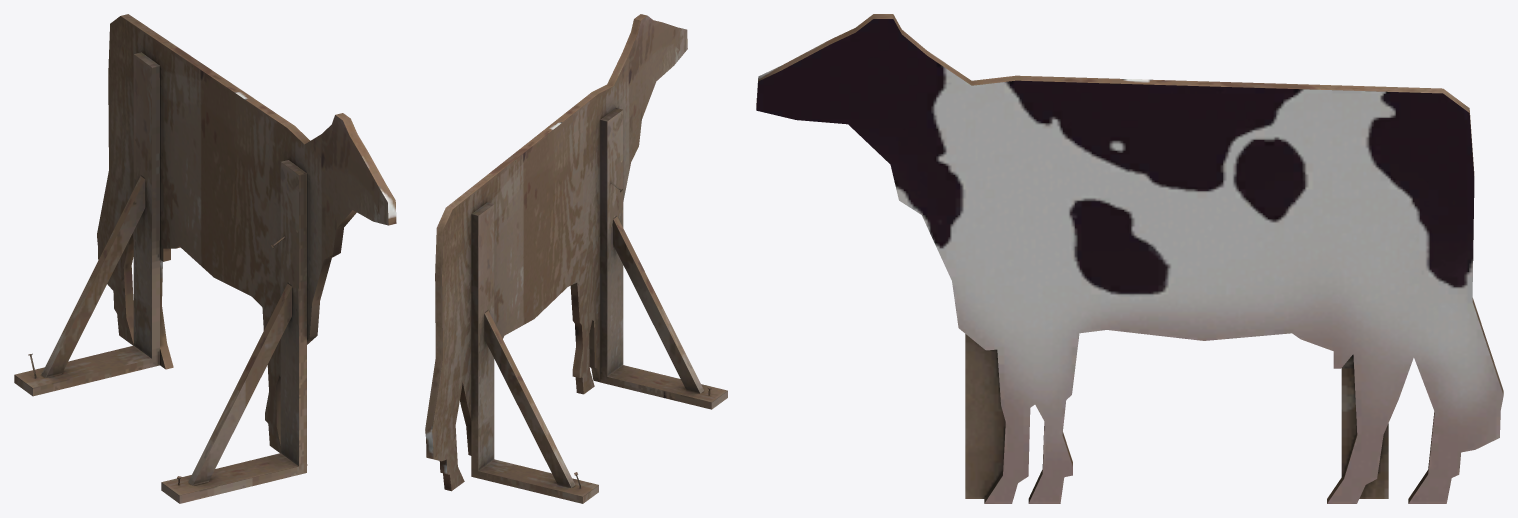
The model's file is Cow.obj.
The picture shows the model from 3 angles, left to right: view 1: azimuth 30°, elevation 25°; view 2: azimuth 150°, elevation 25°; view 3: azimuth 270°, elevation 25°; orthographic projection. The views are drawn at different scales.
Parts seen in each view (by area): view 1: Body_cow001_reference.smd; view 2: Body_cow001_reference.smd; view 3: Body_cow001_reference.smd.
Part boxes in pixels (x1=…): Body_cow001_reference.smd: x1=14, y1=14, x2=396, y2=503; Body_cow001_reference.smd: x1=425, y1=14, x2=727, y2=503; Body_cow001_reference.smd: x1=756, y1=14, x2=1503, y2=503.
Bounding box in the file's own units: 6.48 × 17.34 × 24.21.
Materials: 1 (1 with a texture image).
